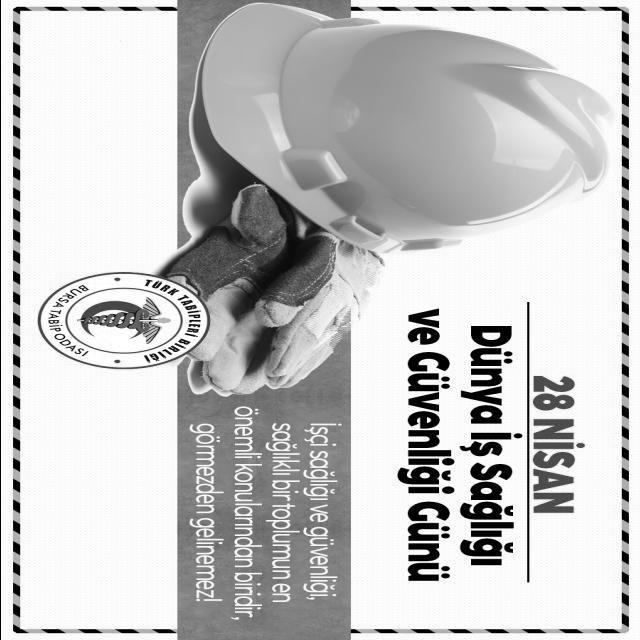safety_helmet: (195, 1, 612, 254)
